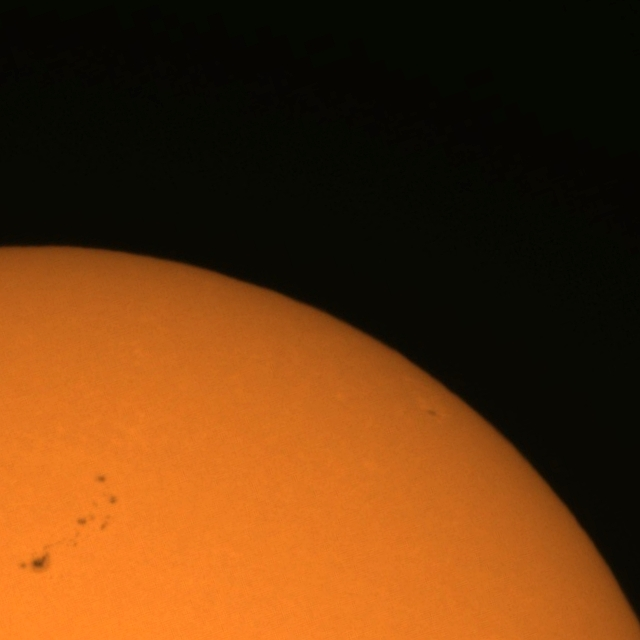sunspot: (74, 495, 118, 533), (18, 544, 52, 574), (93, 474, 118, 508), (95, 474, 108, 485)
